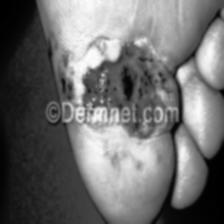Potentially Malignant Skin Tumors: (54, 34, 186, 110)
